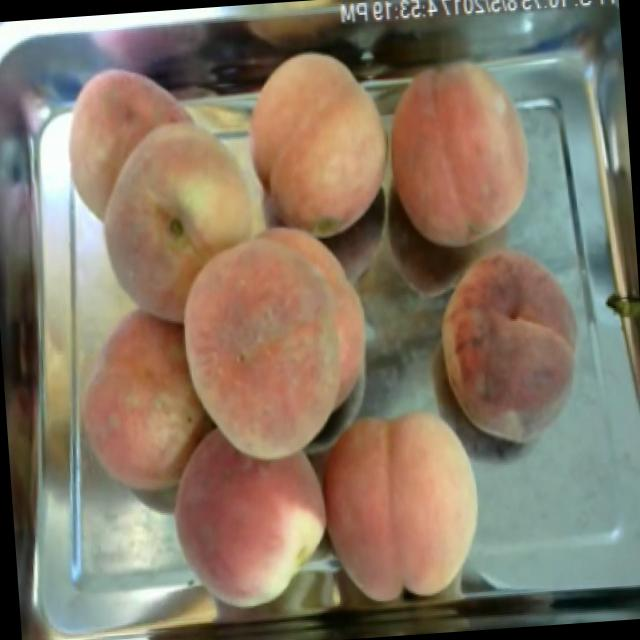Fruit: (155, 205, 393, 482), (64, 102, 283, 340), (414, 224, 606, 462), (300, 391, 497, 617), (152, 408, 340, 624), (225, 32, 397, 256), (372, 45, 544, 262), (67, 298, 223, 508)
